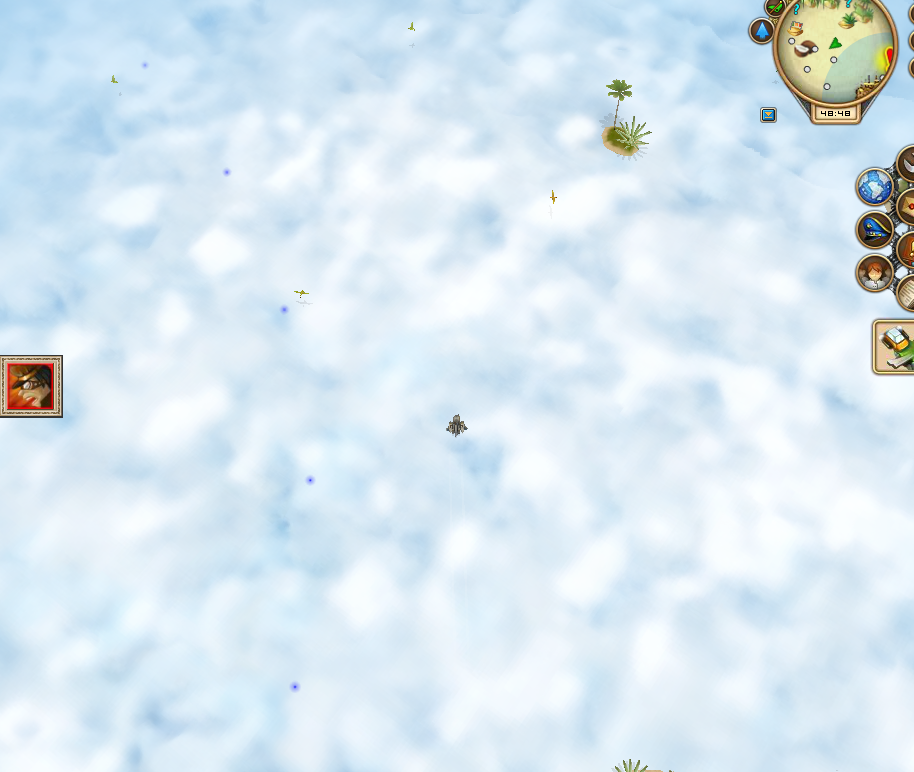palm: (600, 78, 655, 163)
